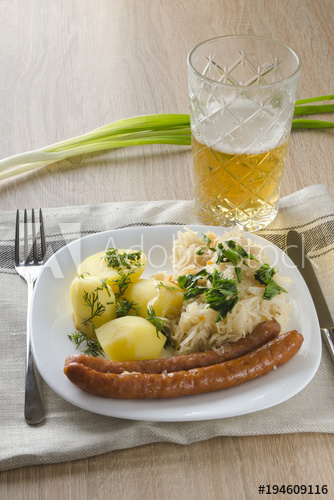boiled potatoes: (72, 249, 179, 356)
glass of water: (187, 33, 299, 234)
plain rice: (181, 232, 290, 337)
